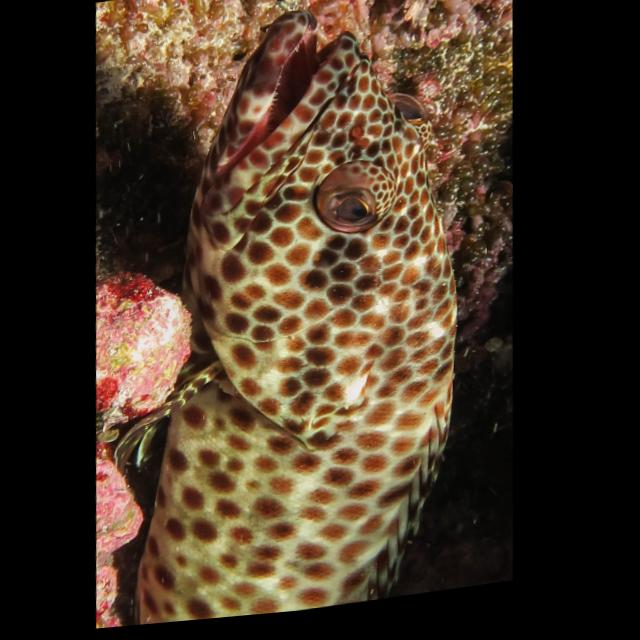Groupers: (83, 0, 488, 630)
